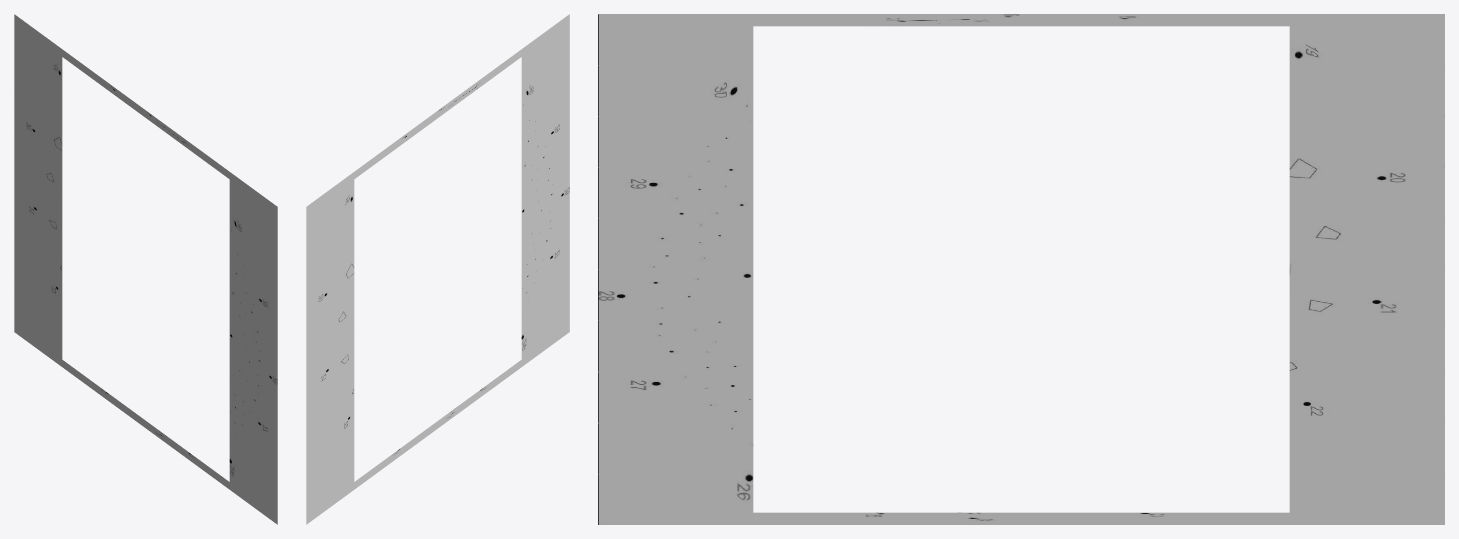
3 renders of one model, left to right at view 1: azimuth 30°, elevation 25°; view 2: azimuth 150°, elevation 25°; view 3: azimuth 270°, elevation 25°, orthographic. The views are drawn at different scales.
Parts seen in each view (by area): view 1: Whiteboard_Function; view 2: Whiteboard_Function; view 3: Whiteboard_Function.
Part boxes in pixels (bbox=[...]): Whiteboard_Function: bbox=[14, 14, 277, 524]; Whiteboard_Function: bbox=[306, 14, 569, 524]; Whiteboard_Function: bbox=[598, 14, 1444, 524].
Bounding box in the file's own units: 1.68e-05 × 73.45 × 110.
